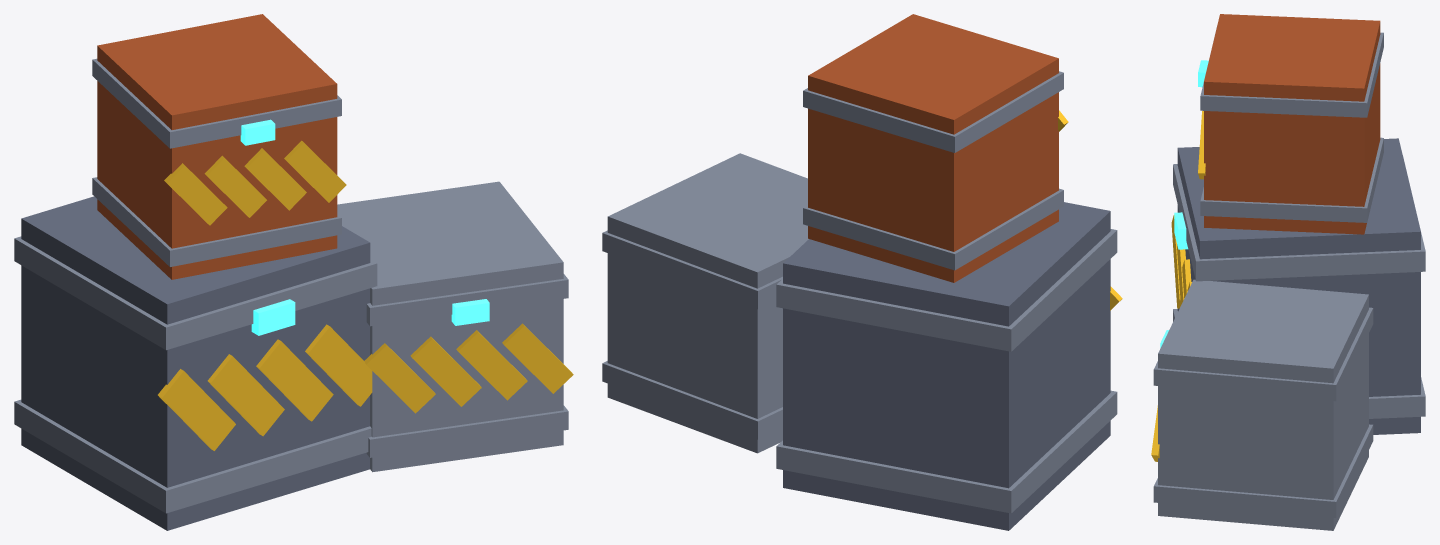
The model's file is space_crates.glb.
The picture shows the model from 3 angles, left to right: view 1: azimuth 30°, elevation 25°; view 2: azimuth 150°, elevation 25°; view 3: azimuth 270°, elevation 25°; orthographic projection. The views are drawn at different scales.
Bounding box in the file's own units: 1.29 × 1.07 × 0.7666.
